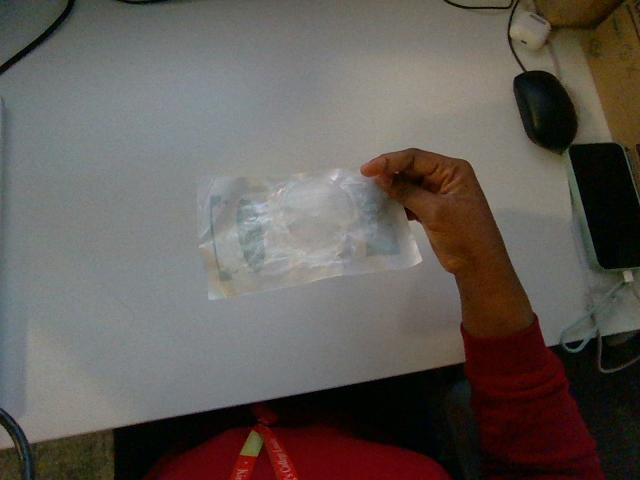gallipot: (198, 169, 421, 298)
